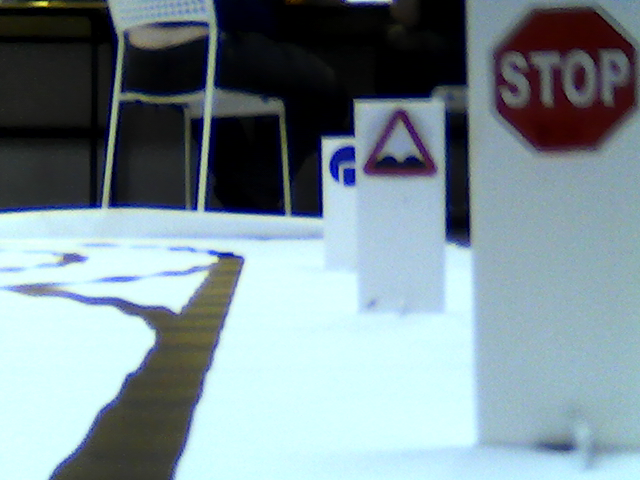Stop: (492, 5, 638, 153)
